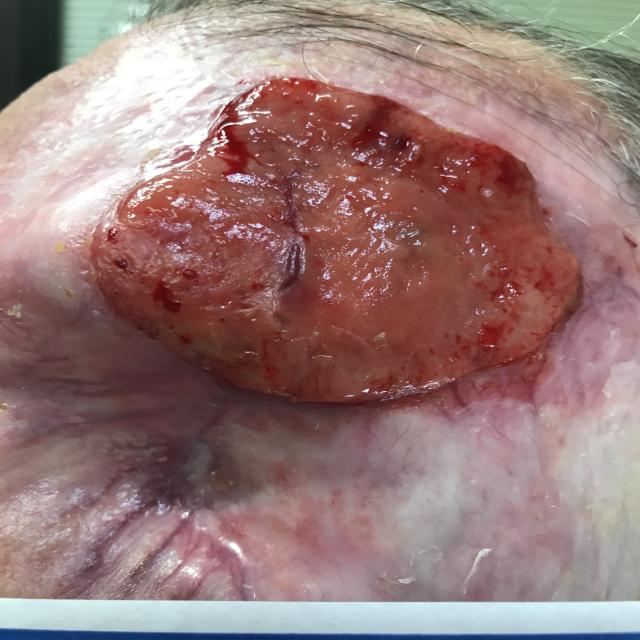stage-3: (92, 79, 582, 402)
